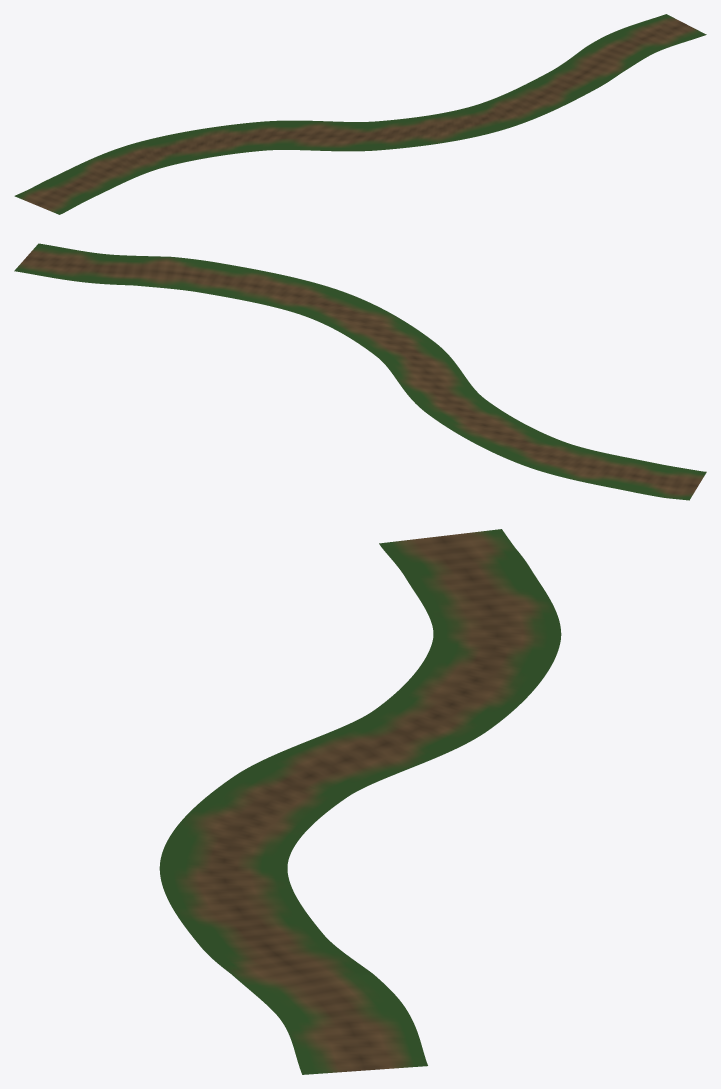
The model's file is path.glb.
3 renders of one model, top to bottom at view 1: azimuth 30°, elevation 25°; view 2: azimuth 150°, elevation 25°; view 3: azimuth 270°, elevation 25°, orthographic. The views are drawn at different scales.
Parts seen in each view (by area): view 1: path; view 2: path; view 3: path.
Boxes of the visible parts, x1,y1,x2,y2 form: path: (14,14,706,214); path: (14,243,706,500); path: (159,529,561,1074).
Bounding box in the file's own units: 79.07 × 4.8 × 21.37.
